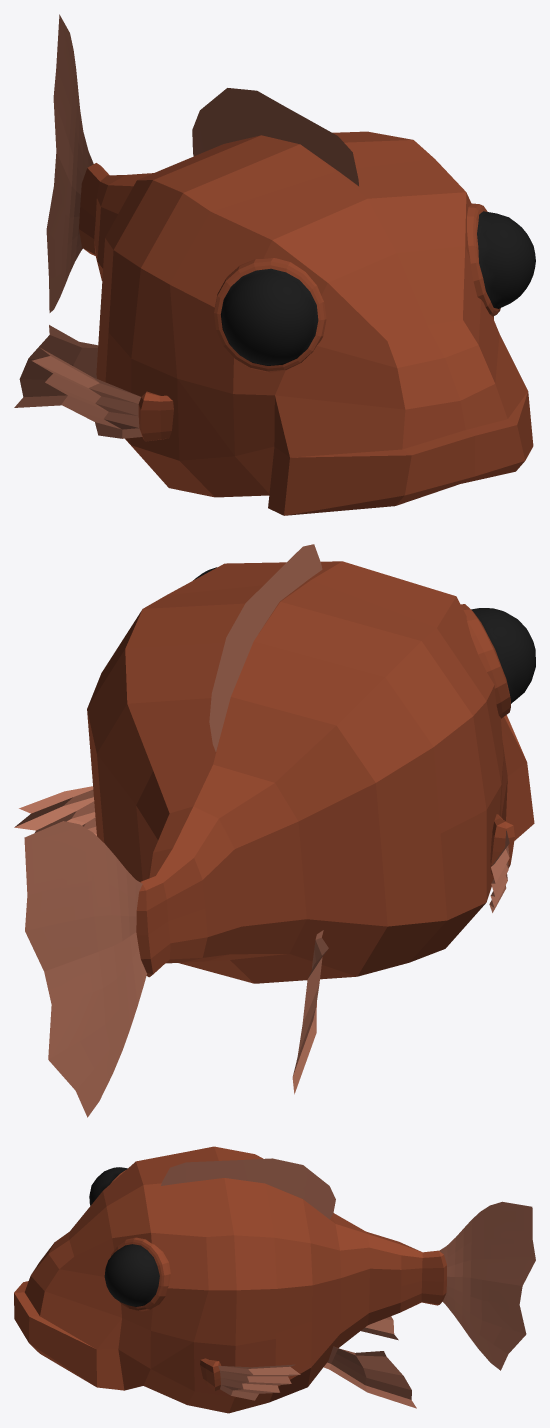
File: coral_grouper.glb
3 views of the same model, one above another, from view 1: azimuth 30°, elevation 25°; view 2: azimuth 150°, elevation 25°; view 3: azimuth 270°, elevation 25° (orthographic). The views are drawn at different scales.
Parts seen in each view (by area): view 1: CoralGrouper_Icosphere.017; view 2: CoralGrouper_Icosphere.017; view 3: CoralGrouper_Icosphere.017.
Boxes of the visible parts, <box> form: CoralGrouper_Icosphere.017: <box>14,14,535,515</box>; CoralGrouper_Icosphere.017: <box>14,544,535,1117</box>; CoralGrouper_Icosphere.017: <box>14,1146,535,1413</box>.
Size of the model in its own units: 3.15 by 2.63 by 5.23.
